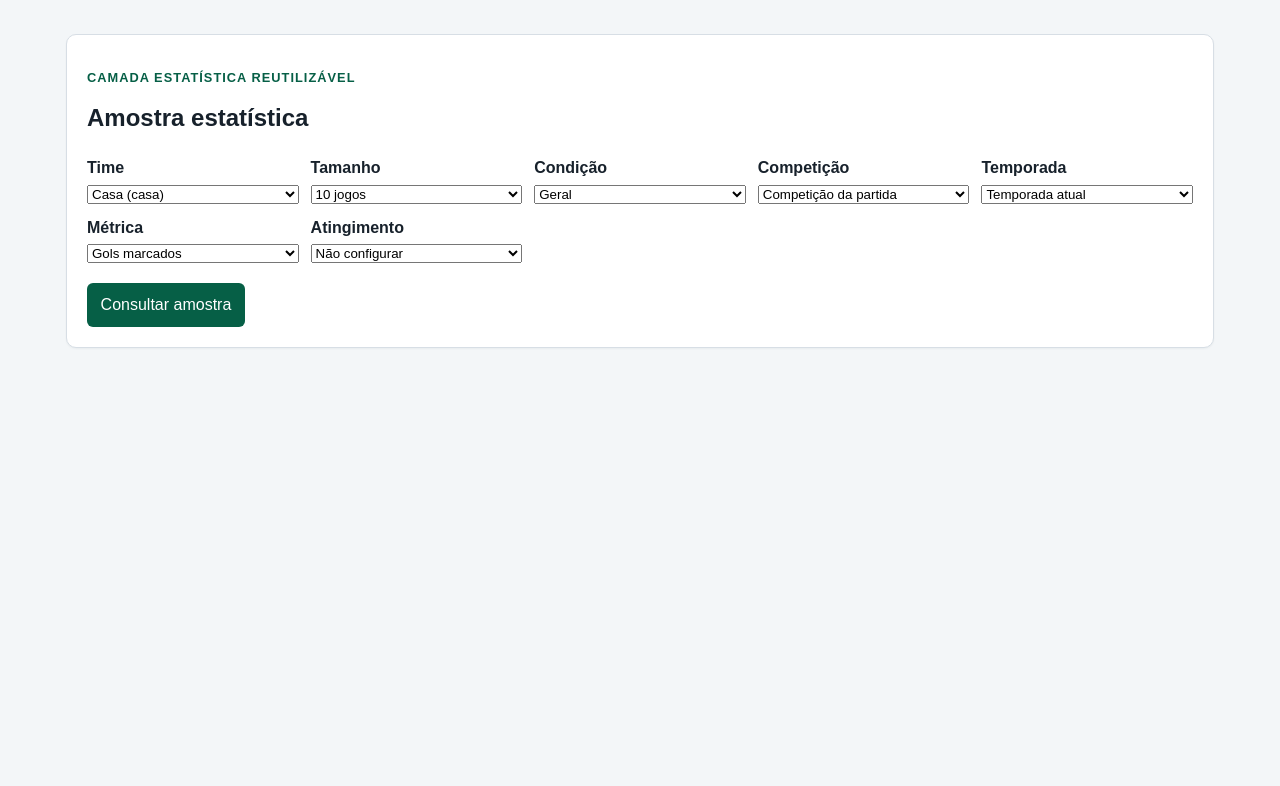
Test: StatisticsWorkspace › sends only the configured public request and renders API statistics, including valid zero
This screenshot has width=1280, height=786.
Step 1. Click the button "Consultar amostra" → click(166, 305), box [87,283,245,327]
(page scrolled)
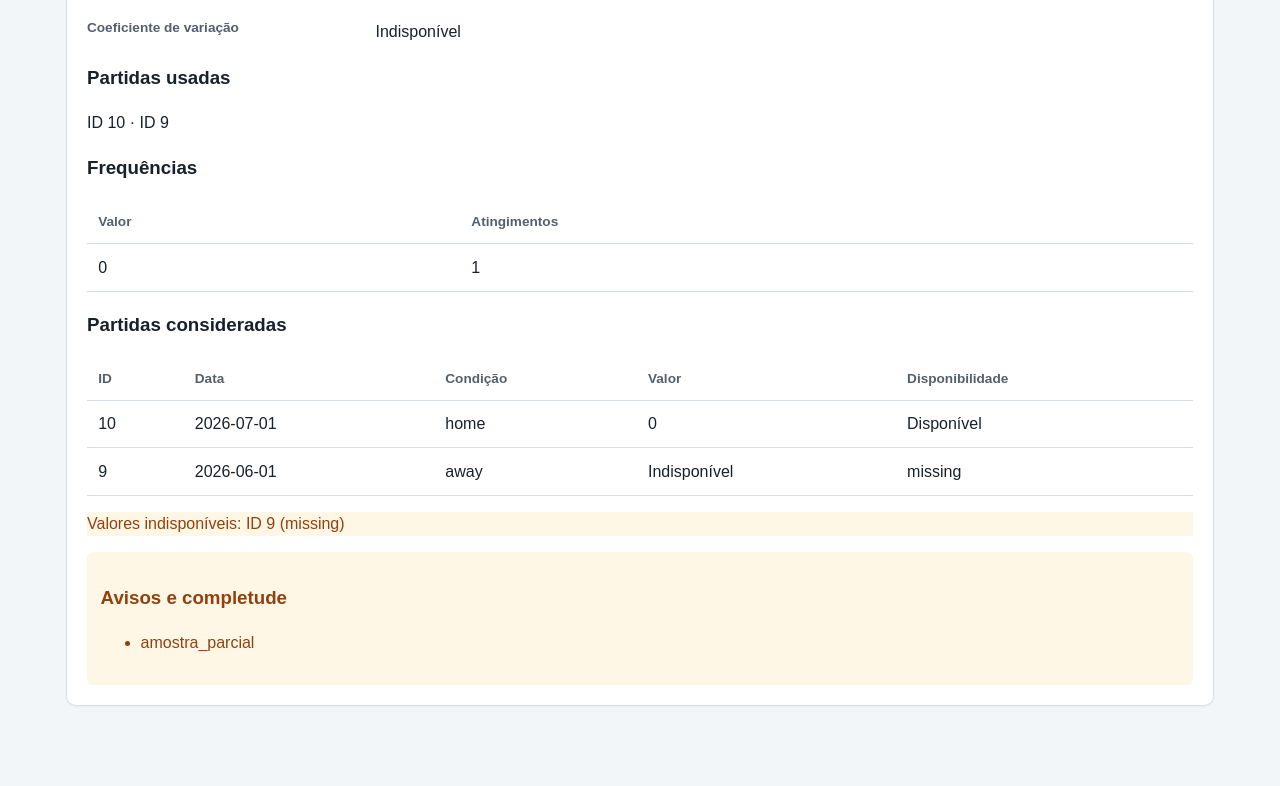
Now the text "Indisponível" is shown, box [376,23,461,40]
Now the text "ID 10 · ID 9" is shown, box [87,114,169,131]
Now the list item "amostra_parcial" is shown, box [141,634,254,651]
